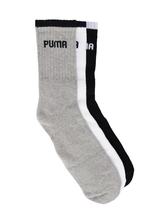sock: (31, 17, 140, 207)
